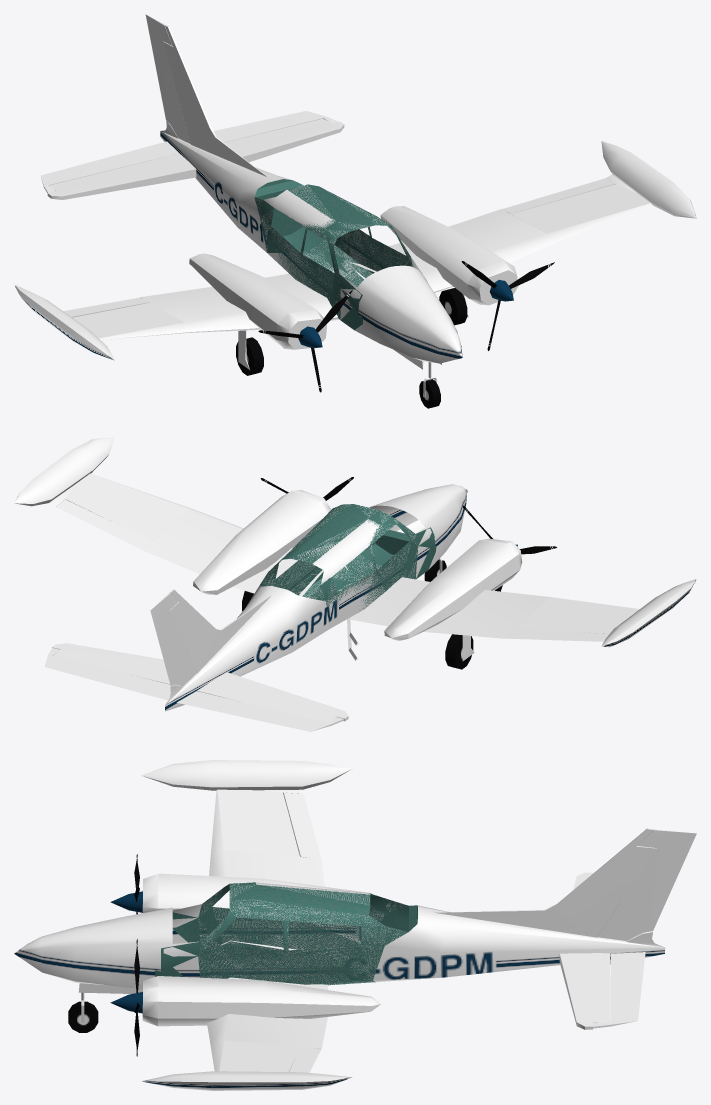
3 views of the same model, one above another, from view 1: azimuth 30°, elevation 25°; view 2: azimuth 150°, elevation 25°; view 3: azimuth 270°, elevation 25° (orthographic). The views are drawn at different scales.
Visible parts, largest first — view 1: body, wing_left, wing_right, tail, elevator, gear_retract, rudder, aileron_left, propeller_blades_2, propeller_blades, aileron_right; view 2: body, wing_right, wing_left, tail, elevator, rudder, gear_retract, aileron_left, aileron_right; view 3: body, wing_left, wing_right, tail, rudder, elevator, aileron_right, gear_retract, aileron_left.
Part boxes in pixels (box(x1,y1,x2,y2)): body: box(160, 127, 500, 363); wing_left: box(334, 141, 696, 305); wing_right: box(14, 229, 381, 360); tail: box(47, 25, 344, 226); elevator: box(40, 111, 338, 192); gear_retract: box(236, 288, 468, 408); rudder: box(145, 14, 190, 143); aileron_left: box(502, 178, 614, 213); propeller_blades_2: box(258, 290, 352, 392); propeller_blades: box(461, 261, 554, 350); aileron_right: box(63, 297, 149, 317); body: box(165, 484, 467, 705); wing_right: box(330, 522, 696, 647); wing_left: box(14, 437, 386, 597); tail: box(52, 589, 348, 722); elevator: box(44, 648, 343, 731); rudder: box(150, 592, 196, 686); gear_retract: box(242, 557, 474, 669); aileron_left: box(56, 499, 152, 549); aileron_right: box(505, 629, 609, 641); body: box(14, 882, 664, 988); wing_left: box(110, 917, 380, 1090); wing_right: box(111, 760, 372, 950); tail: box(447, 828, 665, 1029); rudder: box(598, 829, 696, 940); elevator: box(593, 933, 645, 1028); aileron_right: box(283, 792, 321, 858); gear_retract: box(68, 983, 142, 1032); aileron_left: box(289, 1046, 321, 1072).
Bounding box in the file's own units: 10.66 × 3.15 × 9.65.
4 materials, 3 textured.
